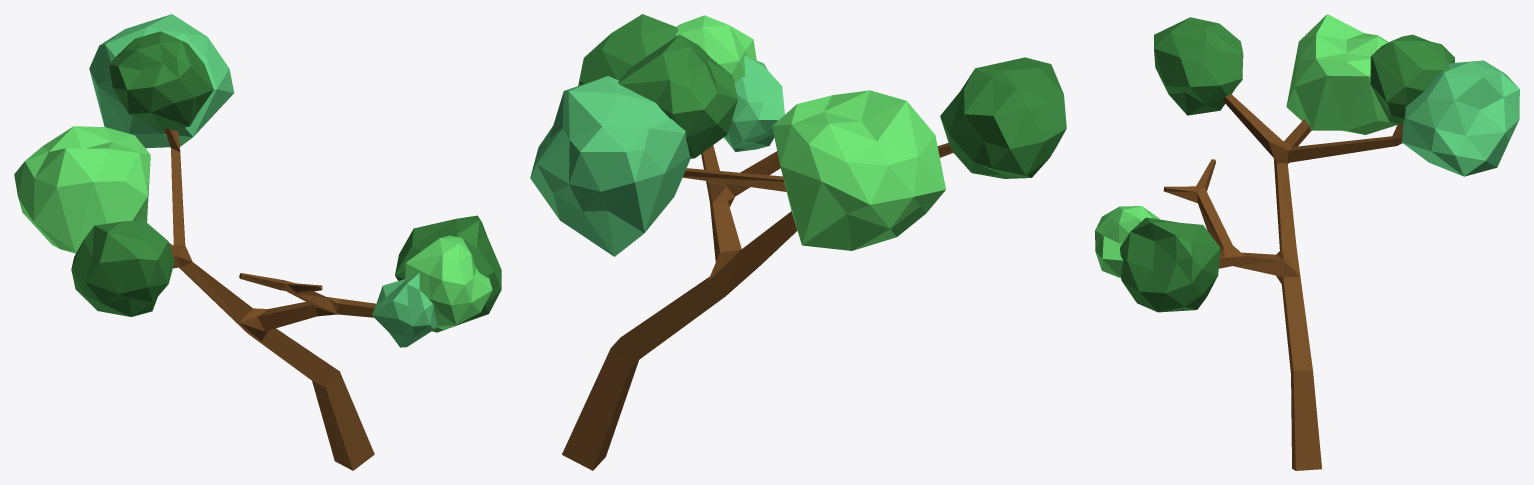
Rendered from tree5.fbx.
The picture shows the model from 3 angles, left to right: view 1: azimuth 30°, elevation 25°; view 2: azimuth 150°, elevation 25°; view 3: azimuth 270°, elevation 25°; orthographic projection. The views are drawn at different scales.
Parts seen in each view (by area): view 1: Icosphere.001, Cube, Icosphere, Icosphere.003, Icosphere.002, Icosphere.004, Icosphere.005, Icosphere.006; view 2: Icosphere.001, Icosphere.002, Cube, Icosphere, Icosphere.003, Icosphere.006, Icosphere.005, Icosphere.004; view 3: Cube, Icosphere.002, Icosphere.001, Icosphere.005, Icosphere, Icosphere.003, Icosphere.004.
Boxes of the visible parts, box(x1,y1,x2,y2) form: Icosphere.001: box(14, 126, 150, 253); Cube: box(164, 128, 375, 470); Icosphere: box(71, 220, 174, 316); Icosphere.003: box(109, 31, 213, 131); Icosphere.002: box(89, 14, 233, 148); Icosphere.004: box(405, 235, 492, 330); Icosphere.005: box(395, 215, 501, 332); Icosphere.006: box(372, 272, 437, 347); Icosphere.001: box(772, 90, 945, 250); Icosphere.002: box(530, 76, 690, 256); Cube: box(562, 143, 953, 470); Icosphere: box(940, 57, 1066, 178); Icosphere.003: box(618, 34, 737, 158); Icosphere.006: box(724, 56, 784, 151); Icosphere.005: box(578, 14, 678, 85); Icosphere.004: box(676, 15, 756, 83); Cube: box(1163, 94, 1402, 470); Icosphere.002: box(1401, 60, 1519, 176); Icosphere.001: box(1286, 14, 1397, 134); Icosphere.005: box(1120, 217, 1220, 312); Icosphere: box(1154, 17, 1243, 115); Icosphere.003: box(1370, 34, 1454, 124); Icosphere.004: box(1095, 206, 1159, 278).
Bounding box in the file's own units: 589 × 583 × 596.
